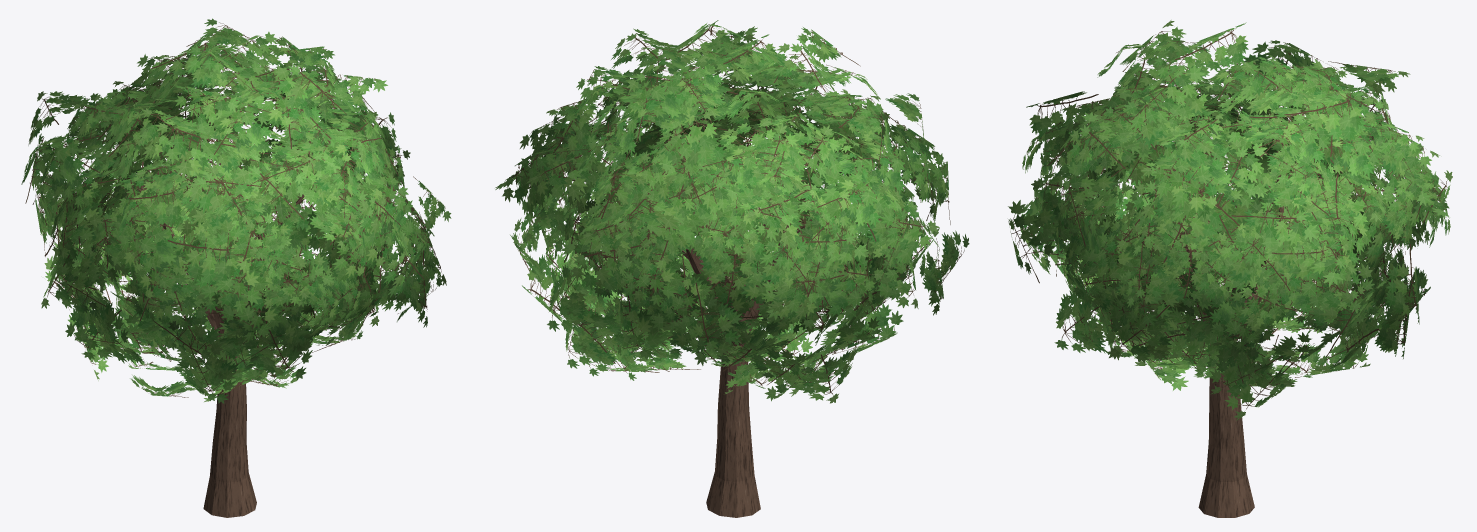
File: tree-maple-small.gltf
The picture shows the model from 3 angles, left to right: view 1: azimuth 30°, elevation 25°; view 2: azimuth 150°, elevation 25°; view 3: azimuth 270°, elevation 25°; orthographic projection. The views are drawn at different scales.
Visible parts, largest first — view 1: tree_maple_small; view 2: tree_maple_small; view 3: tree_maple_small.
Part boxes in pixels (x1,y1,x2,y2): tree_maple_small: [21, 18, 451, 517]; tree_maple_small: [495, 20, 969, 517]; tree_maple_small: [1008, 20, 1452, 517].
Bounding box in the file's own units: 4.63 × 5.37 × 4.7.
3 materials, 3 textured.
